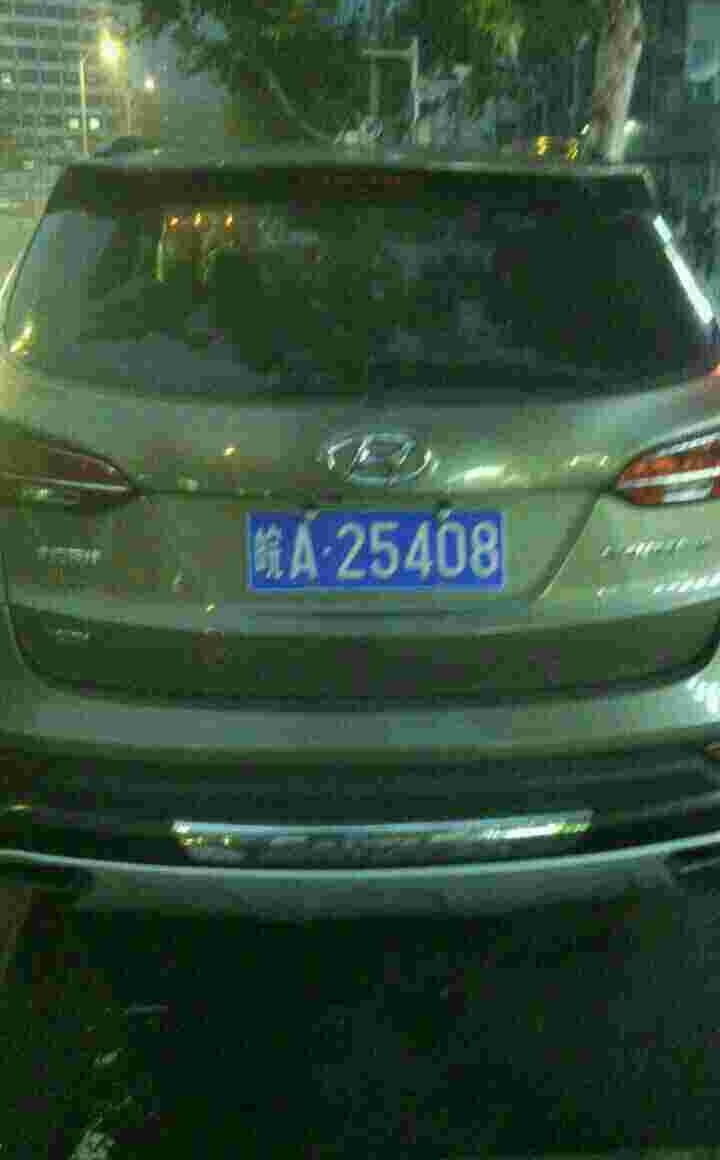car: (242, 505, 503, 587)
